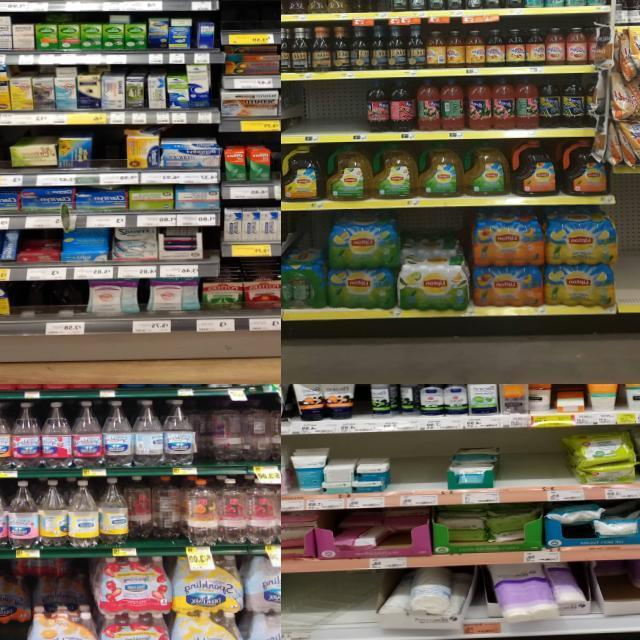empty: (281, 572, 376, 640), (501, 428, 568, 501), (9, 279, 86, 335), (392, 430, 446, 504), (219, 0, 281, 45), (618, 191, 640, 313), (286, 80, 326, 142), (328, 80, 366, 142), (91, 134, 126, 184), (353, 384, 369, 431), (270, 135, 281, 198), (0, 139, 9, 186), (372, 0, 389, 19)
